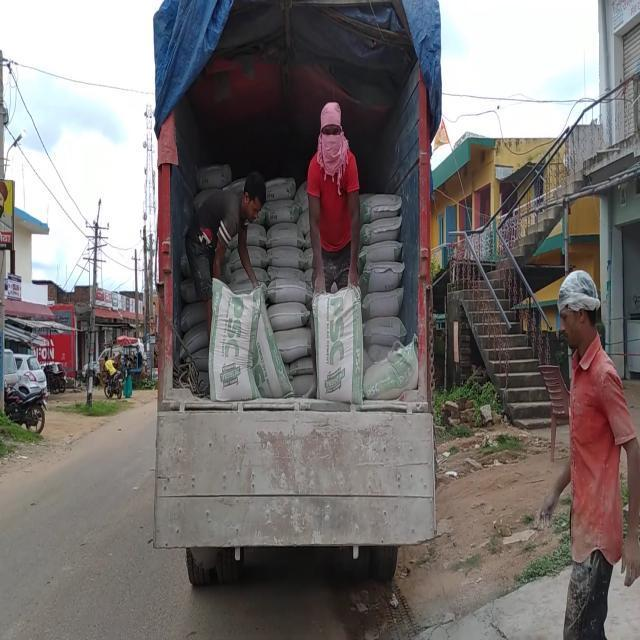gunny_bag: (209, 278, 263, 401), (312, 284, 363, 404), (253, 300, 293, 397), (363, 334, 419, 399), (362, 286, 404, 321), (359, 239, 403, 272), (360, 215, 402, 247), (274, 327, 311, 363), (360, 193, 402, 224), (267, 302, 310, 331), (268, 277, 313, 304), (266, 222, 305, 248), (264, 199, 300, 227), (267, 245, 306, 269)
